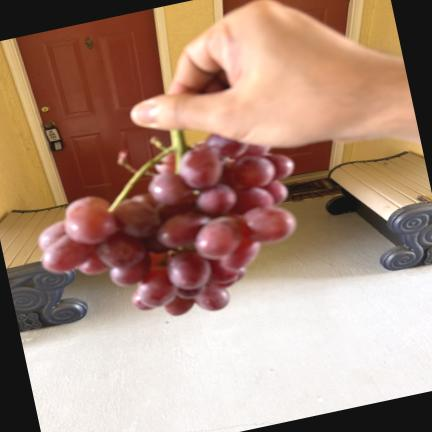grape_cluster: (39, 130, 296, 315)
